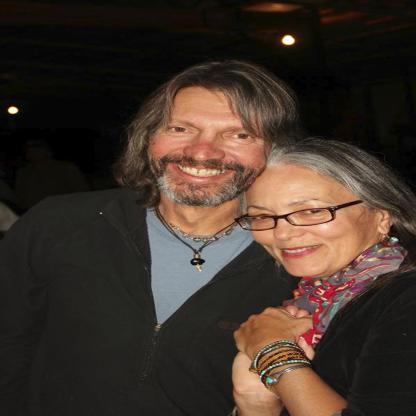face: (147, 86, 267, 206), (249, 164, 377, 276)
